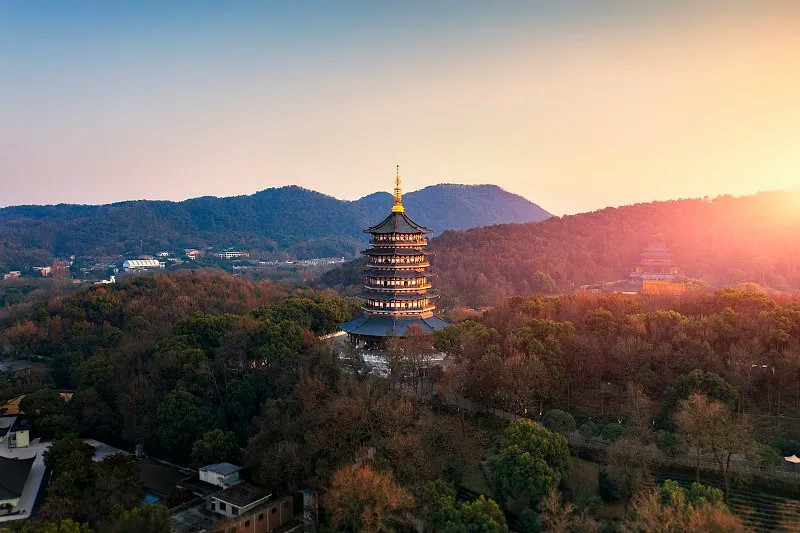Leifeng: (334, 164, 454, 356)
